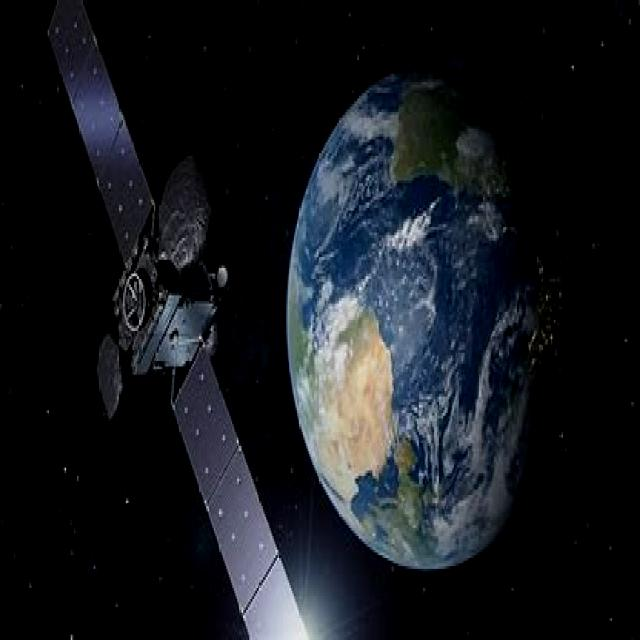satellite: (32, 0, 317, 640)
